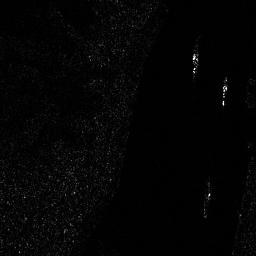ship: (221, 75, 228, 107), (192, 49, 199, 77)
